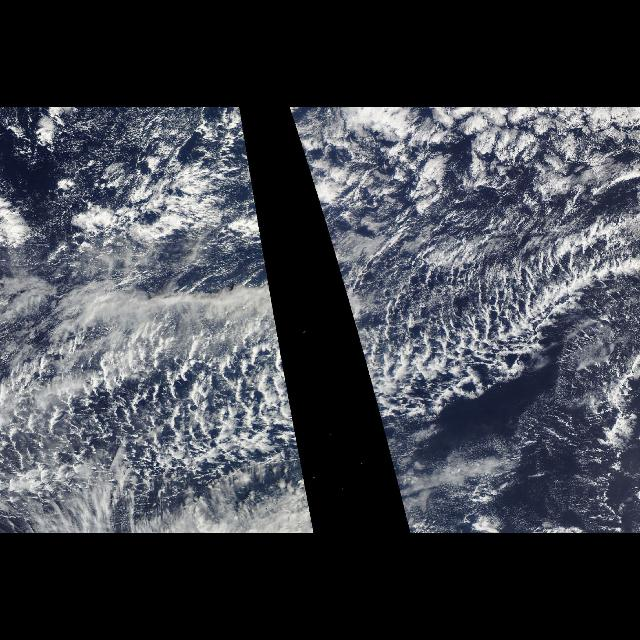Fish: (1, 184, 310, 502), (312, 184, 638, 468)
